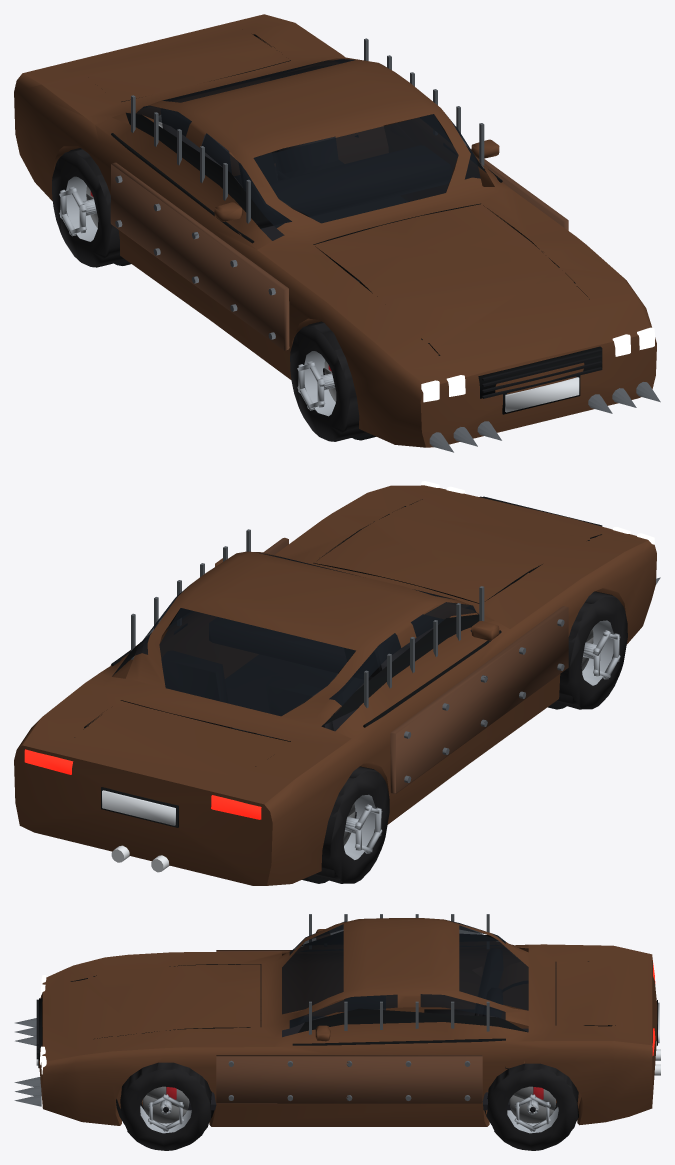
Rendered from armored-muscle-lod.glb.
The picture shows the model from 3 angles, top to bottom: view 1: azimuth 30°, elevation 25°; view 2: azimuth 150°, elevation 25°; view 3: azimuth 270°, elevation 25°; orthographic projection. The views are drawn at different scales.
Parts seen in each view (by area): view 1: Body, WheelFL, WheelRL; view 2: Body, WheelFL, WheelRL; view 3: Body, WheelFR, WheelRR.
Boxes of the visible parts, <box> form: Body: <box>14,14,660,452</box>; WheelFL: <box>290,321,368,441</box>; WheelRL: <box>52,148,125,267</box>; Body: <box>14,481,660,885</box>; WheelFL: <box>554,591,627,709</box>; WheelRL: <box>312,766,389,883</box>; Body: <box>14,914,660,1126</box>; WheelFR: <box>120,1062,211,1150</box>; WheelRR: <box>487,1063,578,1150</box>.
Bounding box in the file's own units: 2.13 × 1.33 × 5.15.
